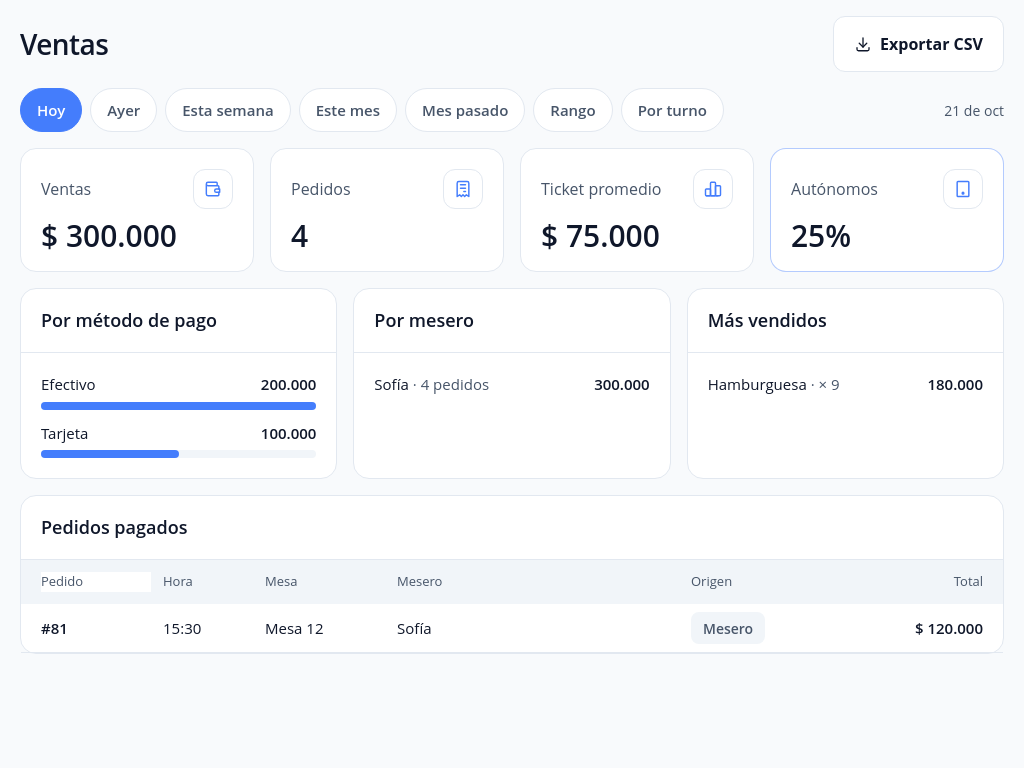
Test: el periodo manda la consulta y un rango inválido no exporta
expect the text "Efectivo" is shown: met, box [41,373,96,396]
Click the button "Ayer": coordinates (124, 110) [90,88,157,132]
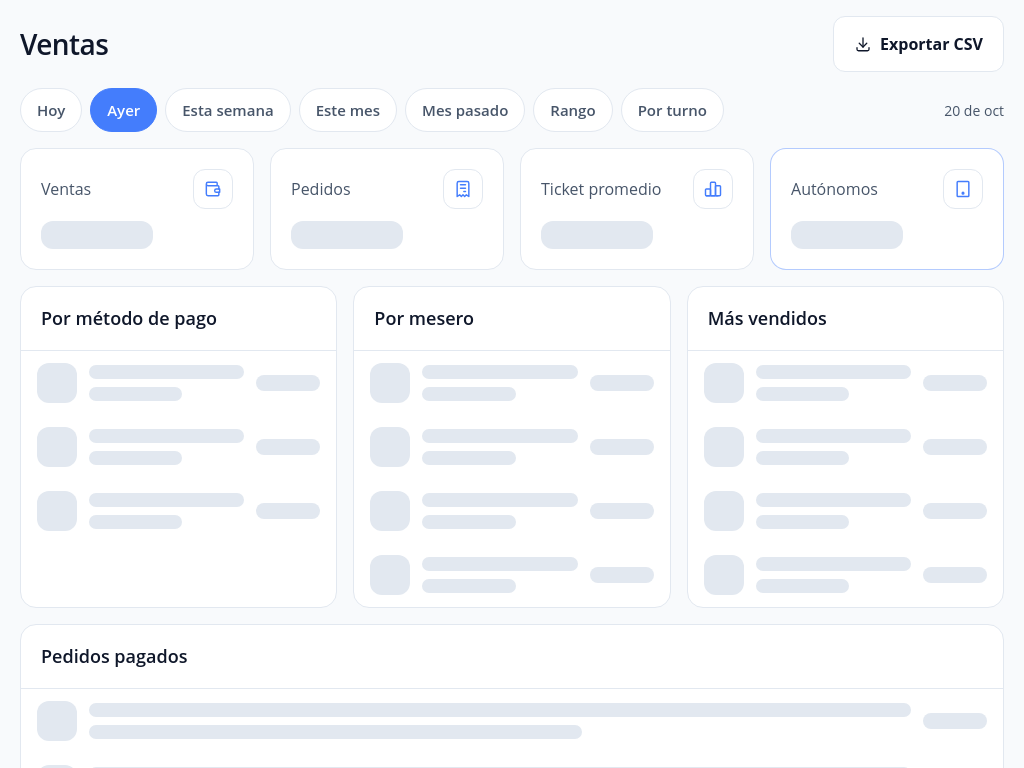
Click the button "Rango": coordinates (573, 110) [533,88,613,132]
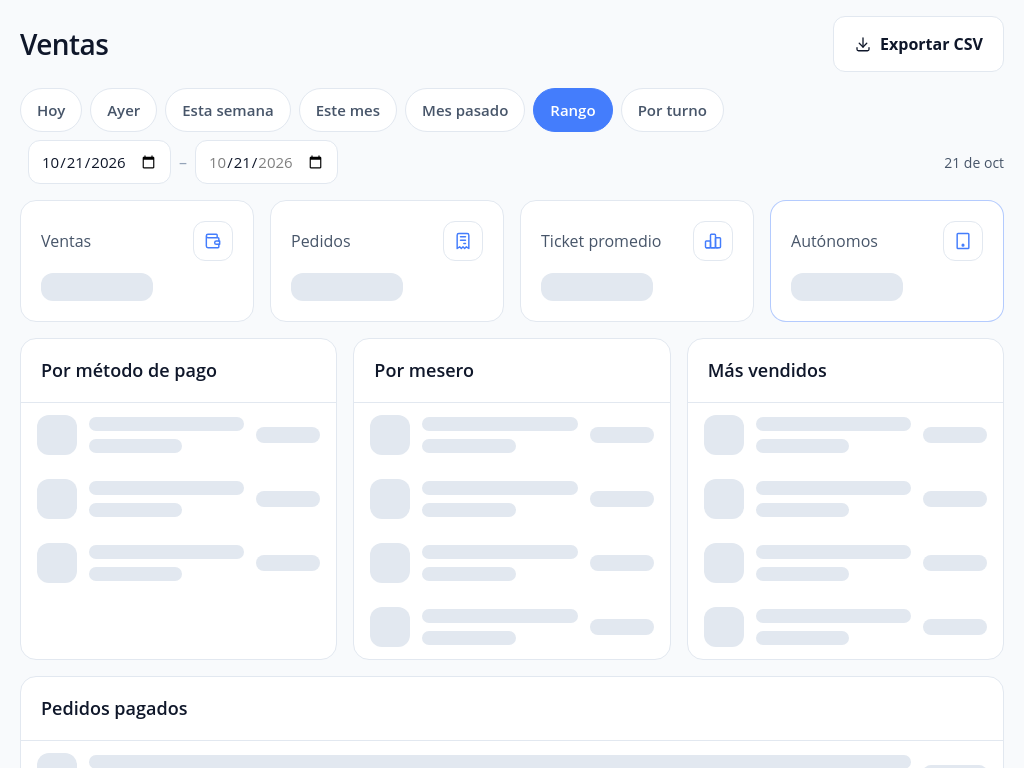
In the date field named "Desde": coordinates (100, 162) [28,140,171,184], type "2020-01-01"
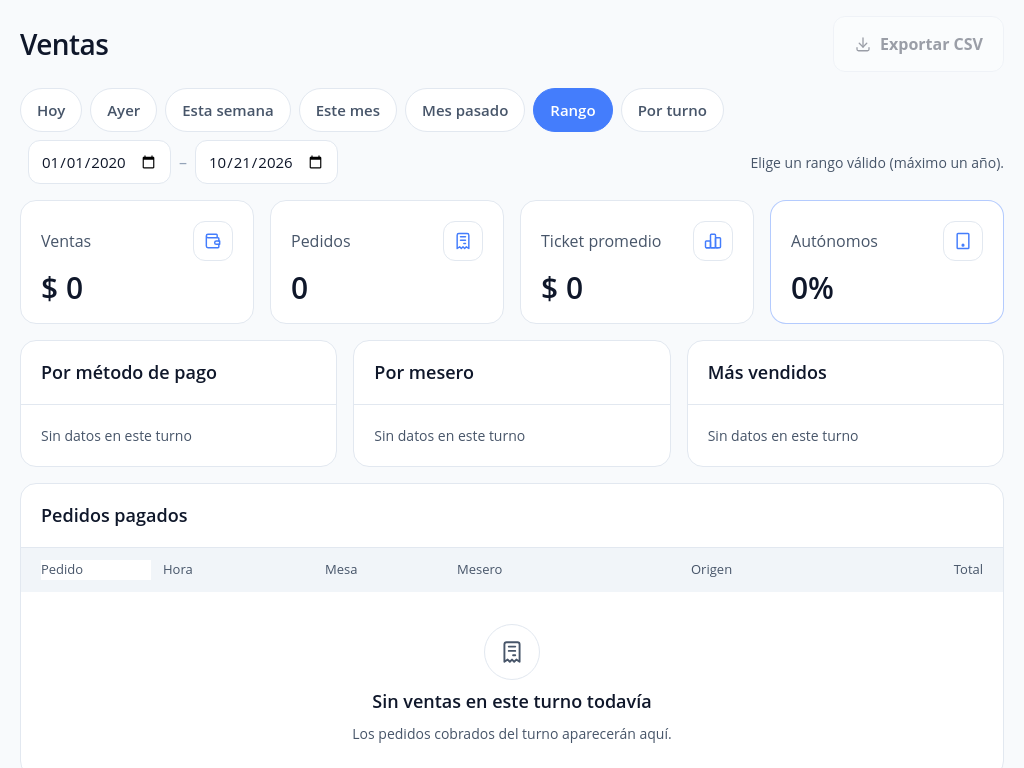
expect the message shows "Elige un rango válido": met, box [750,152,1004,172]
expect the button "Exportar CSV" is disabled: met, box [833,16,1004,72]
